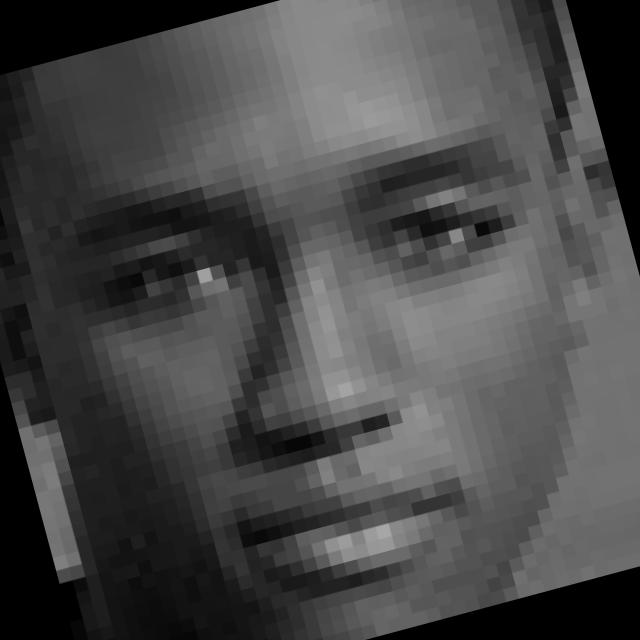neutral: (44, 88, 621, 640)
